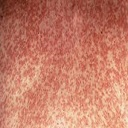Measles: (10, 10, 123, 118)
